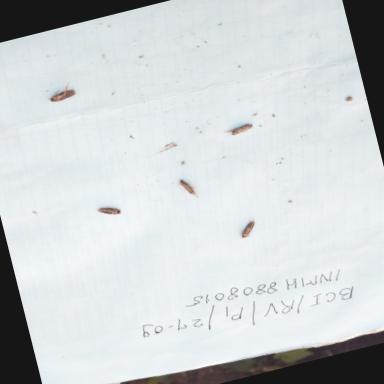pbw: (44, 78, 79, 106), (174, 174, 201, 204), (92, 200, 124, 222), (226, 119, 256, 140), (236, 216, 260, 240)
